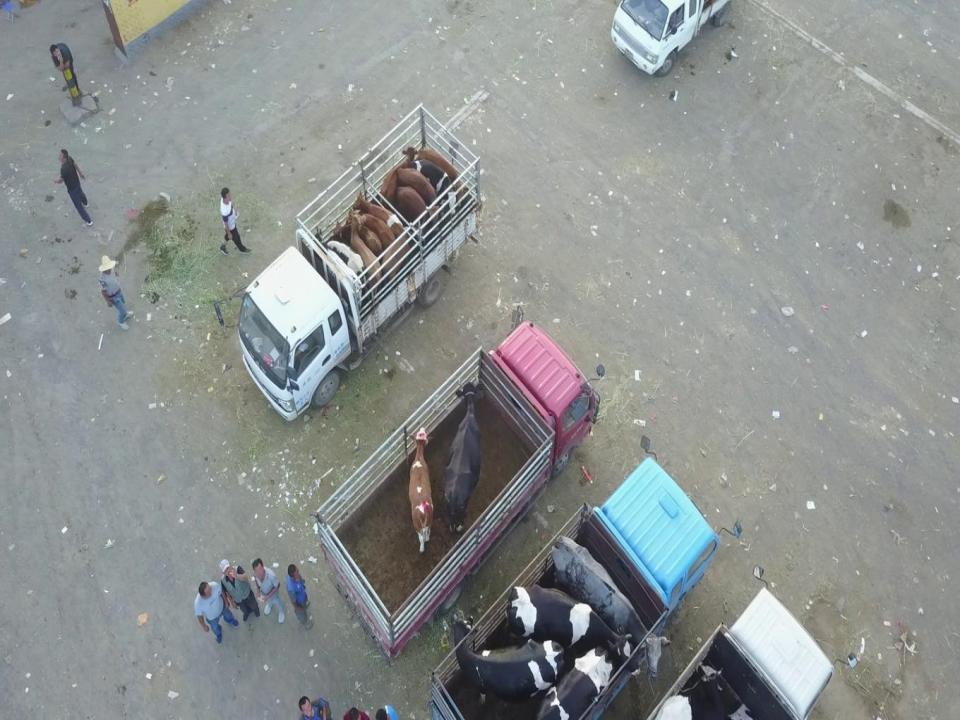truck: (316, 298, 606, 664), (424, 434, 744, 720), (233, 95, 484, 421), (640, 557, 859, 718), (609, 0, 735, 77)
